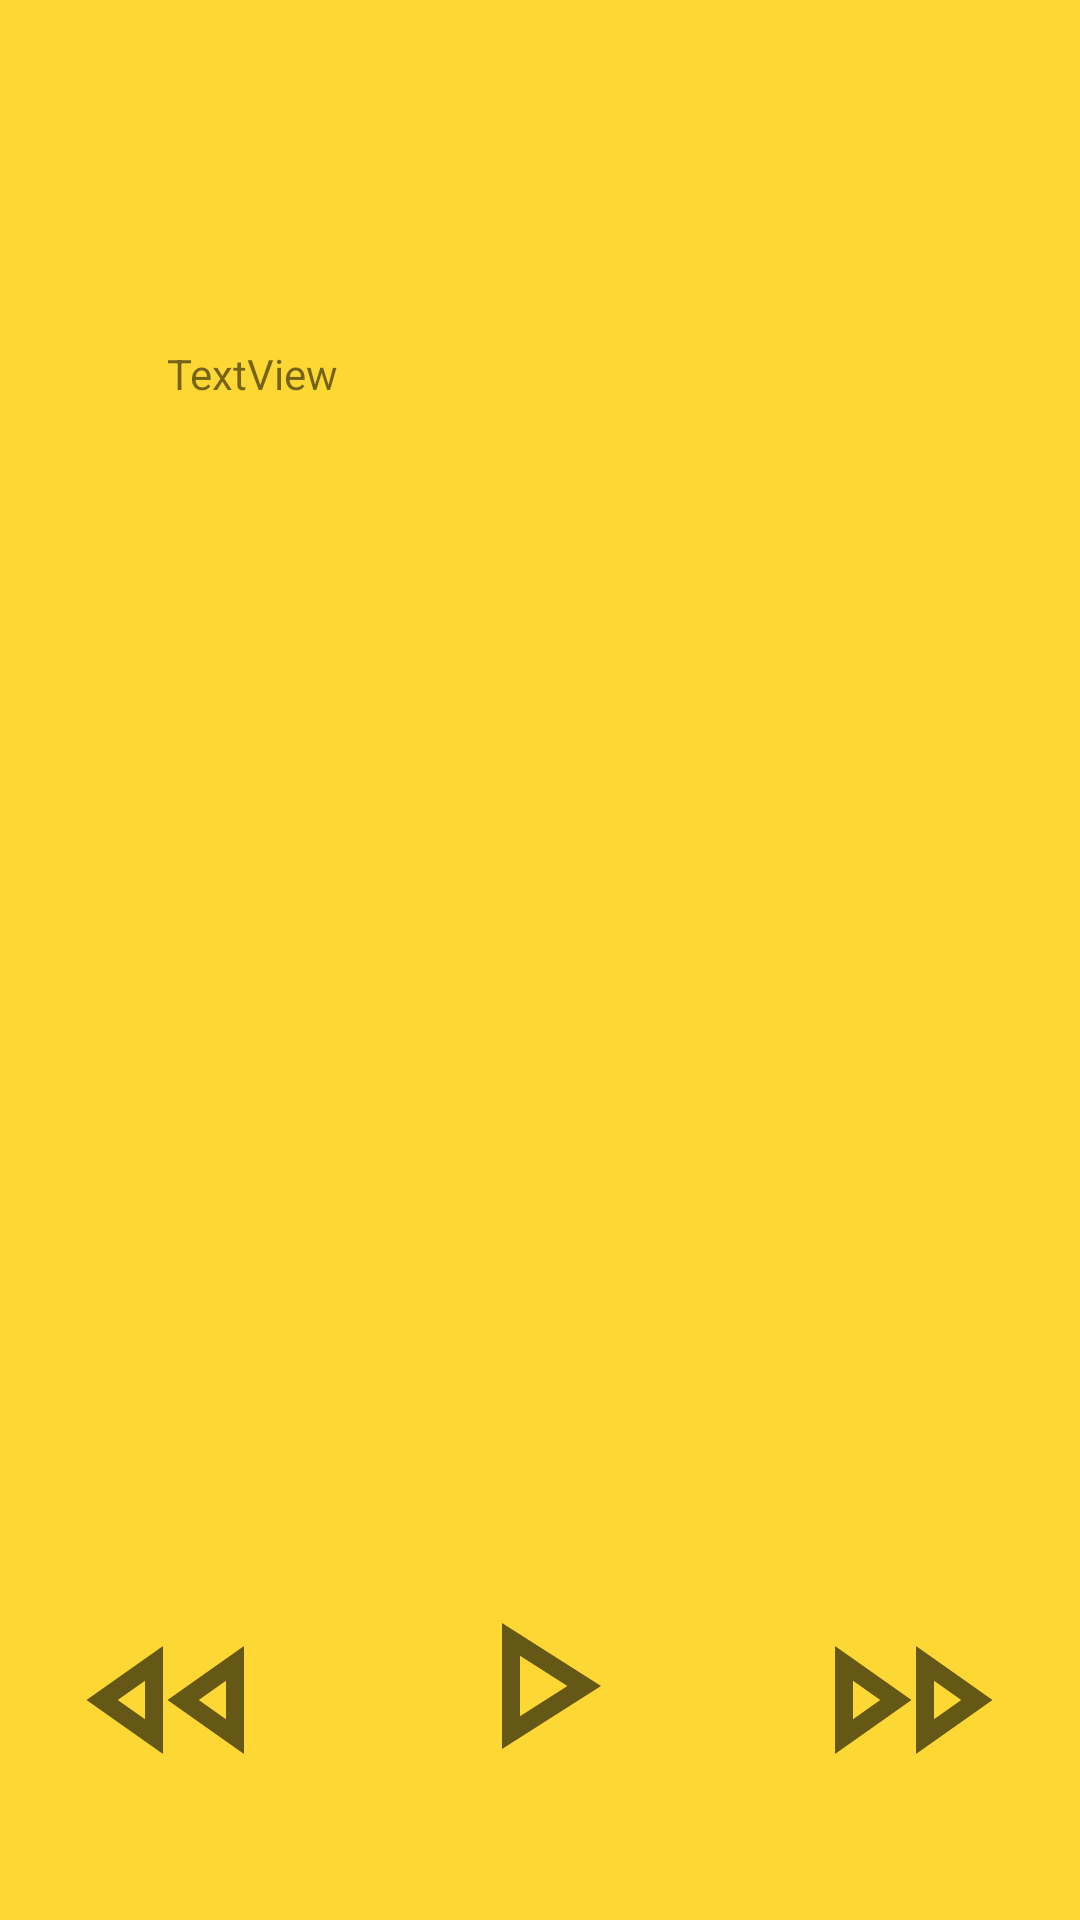

Icon bounding boxes for this 1080 × 1920 phone screenshot, format (x1, y1, x2, y2):
fast forward: (835, 1646, 992, 1754)
fast rewind: (87, 1646, 244, 1754)
play arrow: (502, 1623, 601, 1749)
